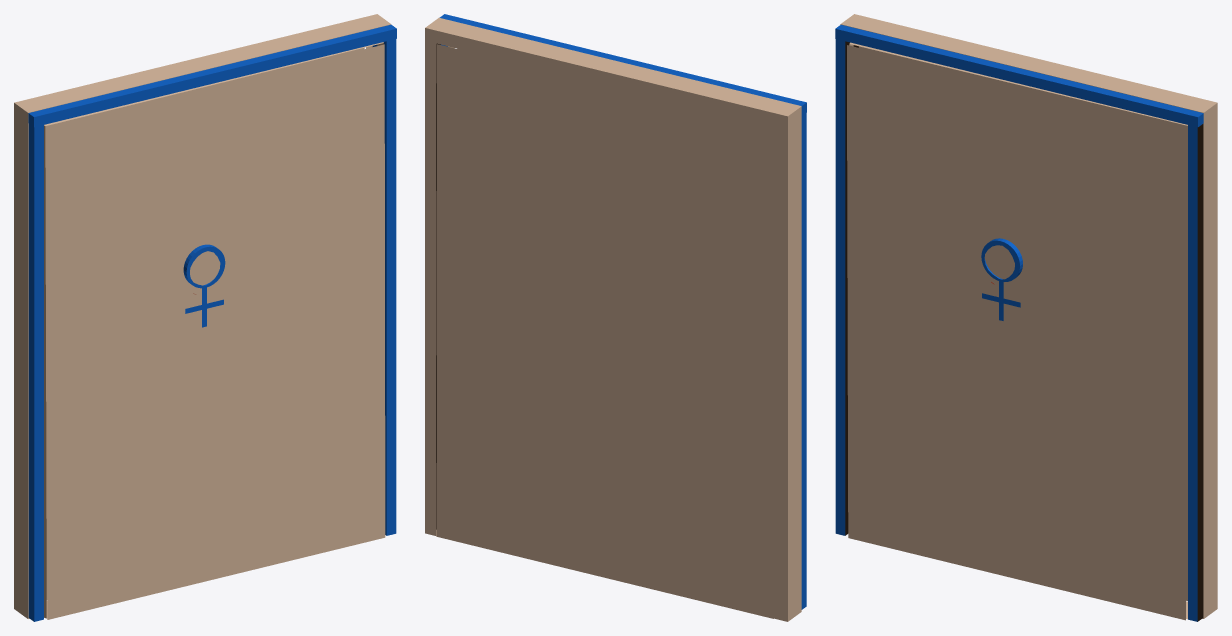
File: puertaAgua.fbx
3 renders of one model, left to right at view 1: azimuth 30°, elevation 25°; view 2: azimuth 150°, elevation 25°; view 3: azimuth 330°, elevation 25°, orthographic.
Parts seen in each view (by area): view 1: PuertaFuego.003; view 2: PuertaFuego.003; view 3: PuertaFuego.003.
Part boxes in pixels (x1,y1,x2,y2): PuertaFuego.003: [14, 14, 396, 621]; PuertaFuego.003: [425, 14, 806, 621]; PuertaFuego.003: [835, 14, 1217, 621].
Bounding box in the file's own units: 75.1 × 100 × 8.32.
Materials: 1 (1 with a texture image).
